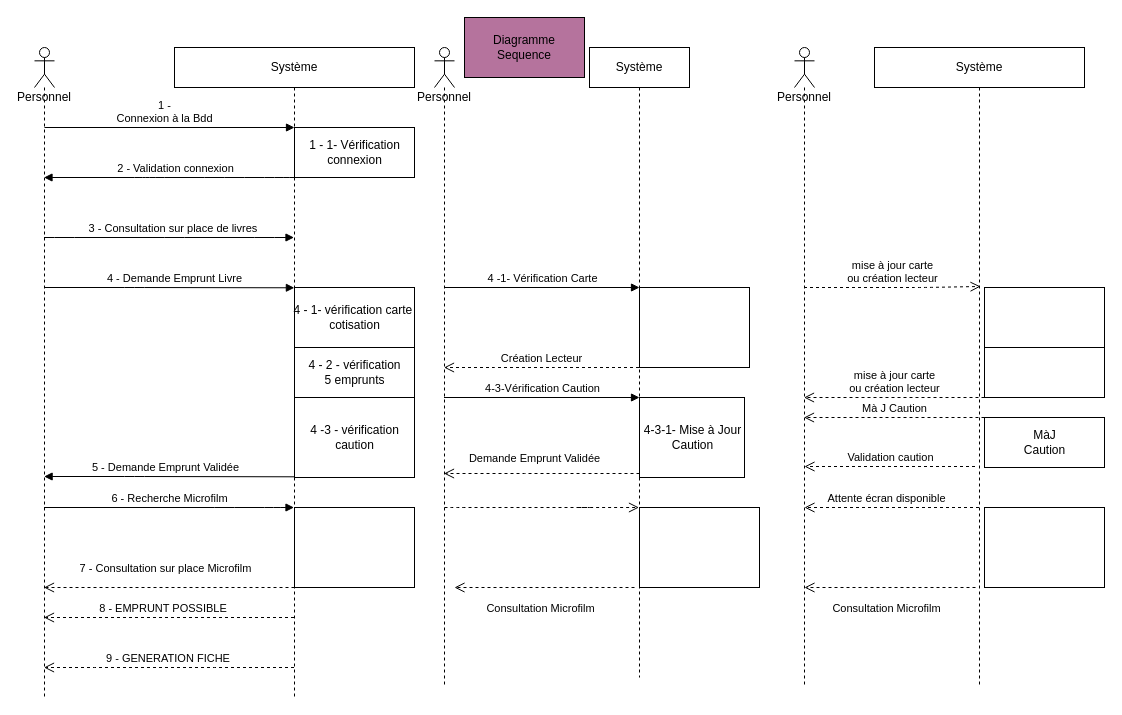
Some shapes in this 1122 by 715 pixel diagram are drawn without their labels. Here are the shapes that lost their labels. From the top down, the centre of each, then its label:
At point (694, 327): "4-1-1- Mise à Jour".
At point (1044, 317): "Création Lecteur MàJ Carte".
At point (1044, 372): "MàJ Restitution emprunt".
At point (354, 547): "6-1- vérification disponiblité écran".
At point (699, 547): "6-1-1- Ecran disponible".
At point (1044, 547): "6-1-1-2- Ecran non disponible".
